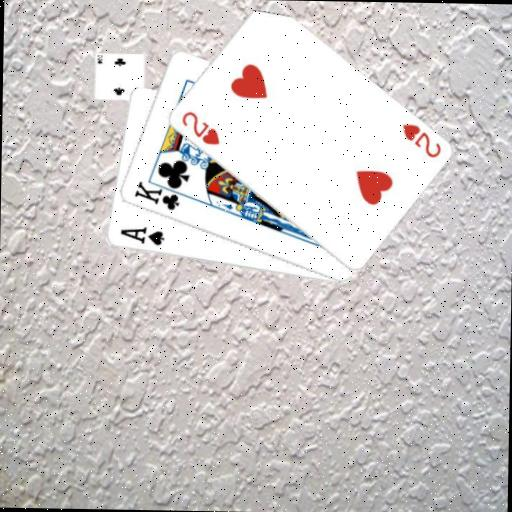2H: (178, 108, 222, 148), (398, 121, 443, 160)
AS: (117, 224, 166, 248)
KC: (130, 177, 189, 213)
